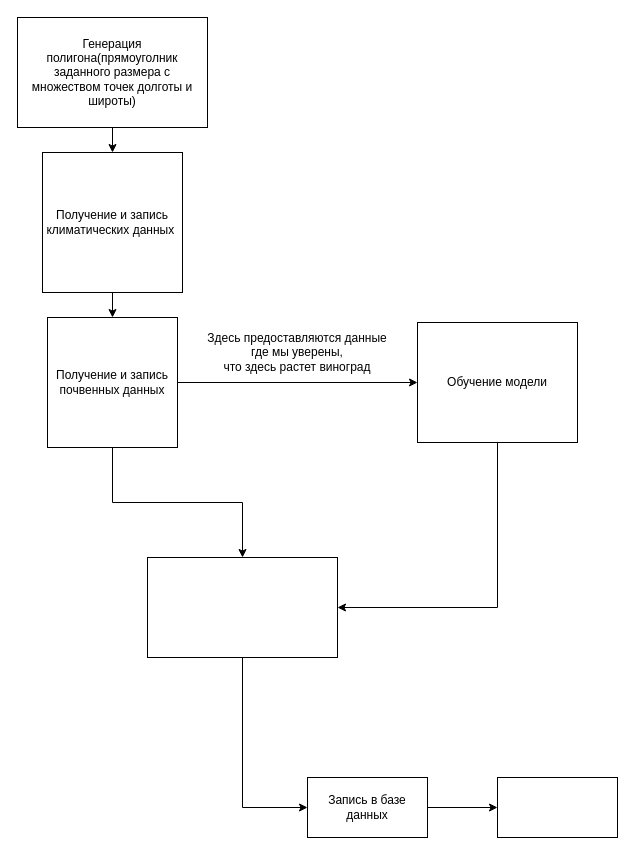
The diagram is 635 pixels wide and 855 high, and some of its shapes have lost their labels. Each missing label, with the centre of its shape:
"Отображение данных на карте" belongs at [557,807].
"Получение скоринга от модели" belongs at [242,607].
